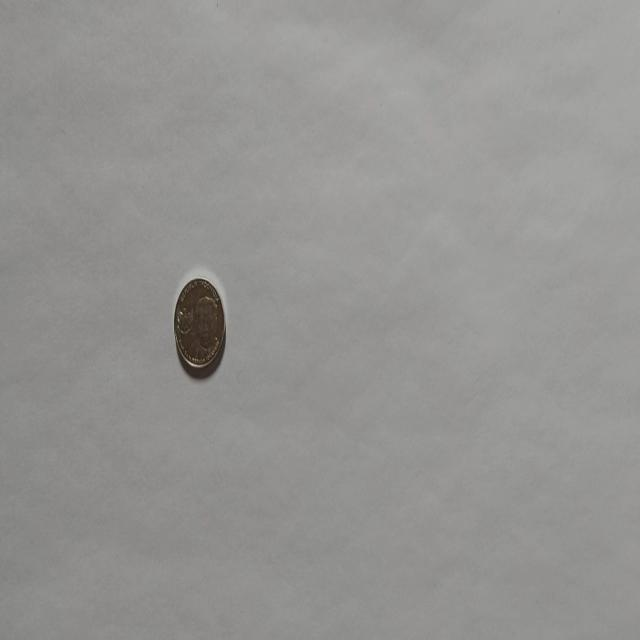seratus rupiah: (172, 276, 226, 376)
